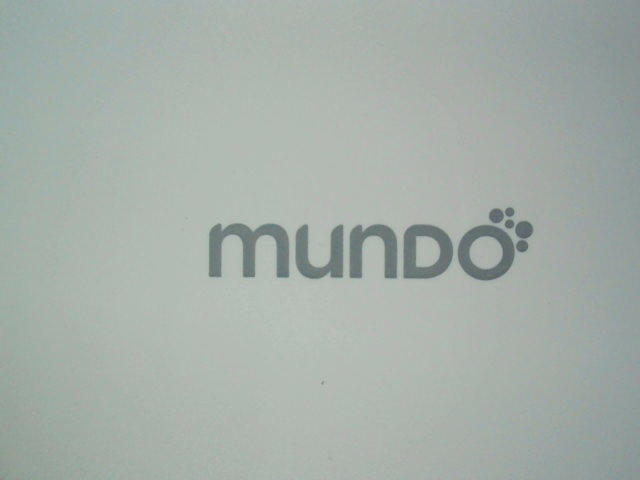BI_MUNDO: (188, 196, 543, 287)
